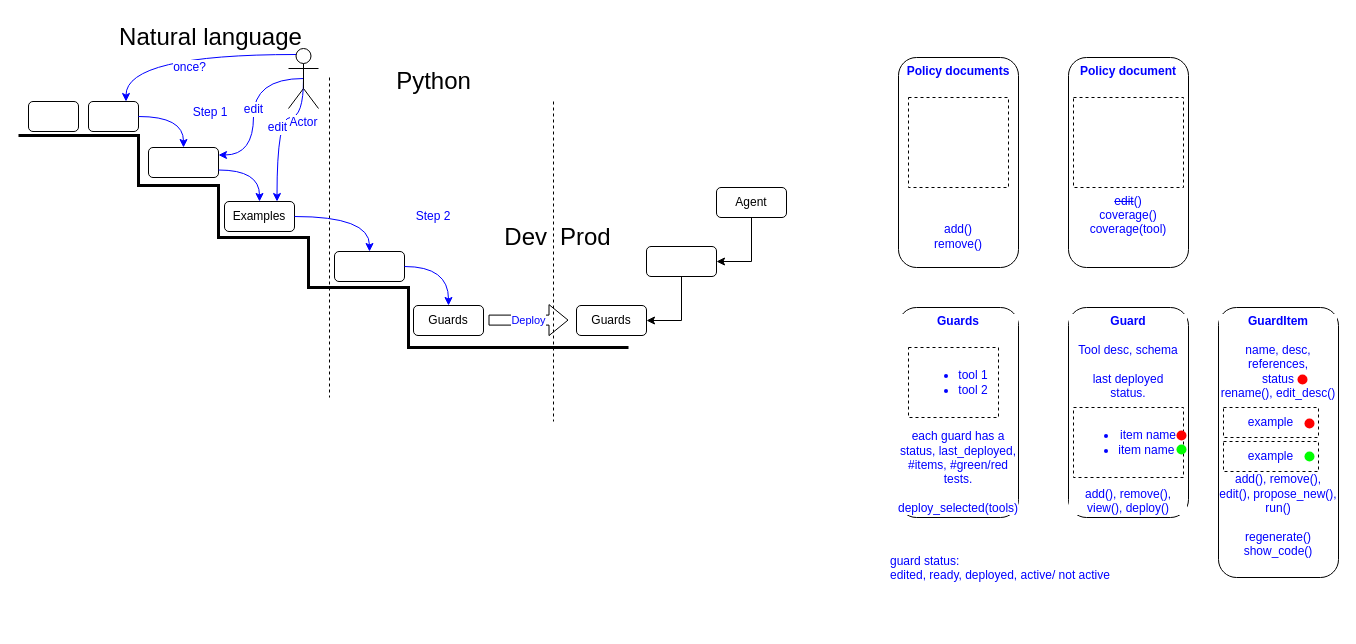
Some shapes in this 1356 by 644 pixel diagram are drawn without their labels. Each missing label, with the centre of its shape:
doc 1.md doc 2.pdf: [958,142]
Long and complex text: [1128,142]
Policy: [113,116]
Tests: [369,266]
Tool * Policy Item: [183,162]
Tool call: [681,261]
Tools: [53,116]
